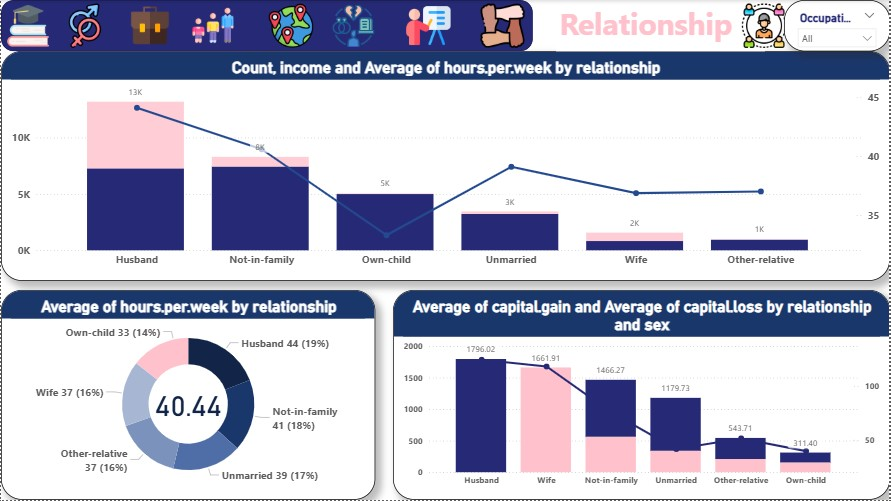

This screenshot's page, from the dashboard's own definition file:
{"tool":"powerbi","page":{"name":"relation","canvas":[1280,720],"ordinal":6},"visuals":[{"type":"lineStackedColumnComboChart","title":"Count, income and Average of hours.per.week by relationship","fields":{"Y":["CountNonNull(adult_cleaned.income)"],"Series":["adult_cleaned.income"],"Category":["DimRelationship.relationship"],"Y2":["Avg(adult_cleaned.hours.per.week)"]},"box":[0,73.9,1280,331],"z":0},{"type":"donutChart","fields":{"Category":["DimRelationship.relationship"],"Y":["Avg(adult_cleaned.hours.per.week)"]},"box":[0,418.3,539.2,302.4],"z":1000},{"type":"lineStackedColumnComboChart","fields":{"Category":["DimRelationship.relationship"],"Y":["Avg(adult_cleaned.capital.gain)"],"Y2":["Avg(adult_cleaned.capital.loss)"],"Series":["DimSex.sex"]},"box":[564.4,418.3,715.6,302.4],"z":2000},{"type":"card","fields":{"Values":["Avg(adult_cleaned.hours.per.week)"]},"box":[215,547.6,110.9,65.5],"z":3000},{"type":"shape","box":[0,0,765.9,73.9],"z":4001},{"type":"image","box":[0,0,77.3,73.9],"z":4002},{"type":"image","box":[77.3,0,85.7,73.9],"z":4003},{"type":"image","box":[179.7,0,68.9,73.9],"z":4004},{"type":"image","box":[270.4,0,68.9,73.9],"z":4005},{"type":"image","box":[371.2,0,92.4,73.9],"z":4006},{"type":"image","box":[467,0,82.3,73.9],"z":4007},{"type":"image","box":[577.8,0,75.6,73.9],"z":4008},{"type":"image","box":[678.6,0,87.3,73.9],"z":4009},{"type":"textbox","box":[799.6,0,300.7,73.9],"z":4010},{"type":"image","box":[1059.9,0,79,73.9],"z":4011},{"type":"slicer","fields":{"Values":["DimOccupation.occupation"]},"box":[1127.1,0,152.9,73.9],"z":4012}]}

Visuals, with their boxes on the page's 1280x720 design canvas (x1, y1, x2, y2). These are canvas units, not pixel positions in the 891x501 screenshot, which may show the page scaled, cropped or inside an application window:
"Count, income and Average of hours.per.week by relationship" lineStackedColumnComboChart: locate(0, 74, 1280, 405)
donutChart - DimRelationship.relationship x Avg(adult_cleaned.hours.per.week): locate(0, 418, 539, 721)
lineStackedColumnComboChart - DimRelationship.relationship x Avg(adult_cleaned.capital.gain): locate(564, 418, 1280, 721)
card - Avg(adult_cleaned.hours.per.week): locate(215, 548, 326, 613)
shape: locate(0, 0, 766, 74)
image: locate(0, 0, 77, 74)
image: locate(77, 0, 163, 74)
image: locate(180, 0, 249, 74)
image: locate(270, 0, 339, 74)
image: locate(371, 0, 464, 74)
image: locate(467, 0, 549, 74)
image: locate(578, 0, 653, 74)
image: locate(679, 0, 766, 74)
textbox: locate(800, 0, 1100, 74)
image: locate(1060, 0, 1139, 74)
slicer - DimOccupation.occupation: locate(1127, 0, 1280, 74)
